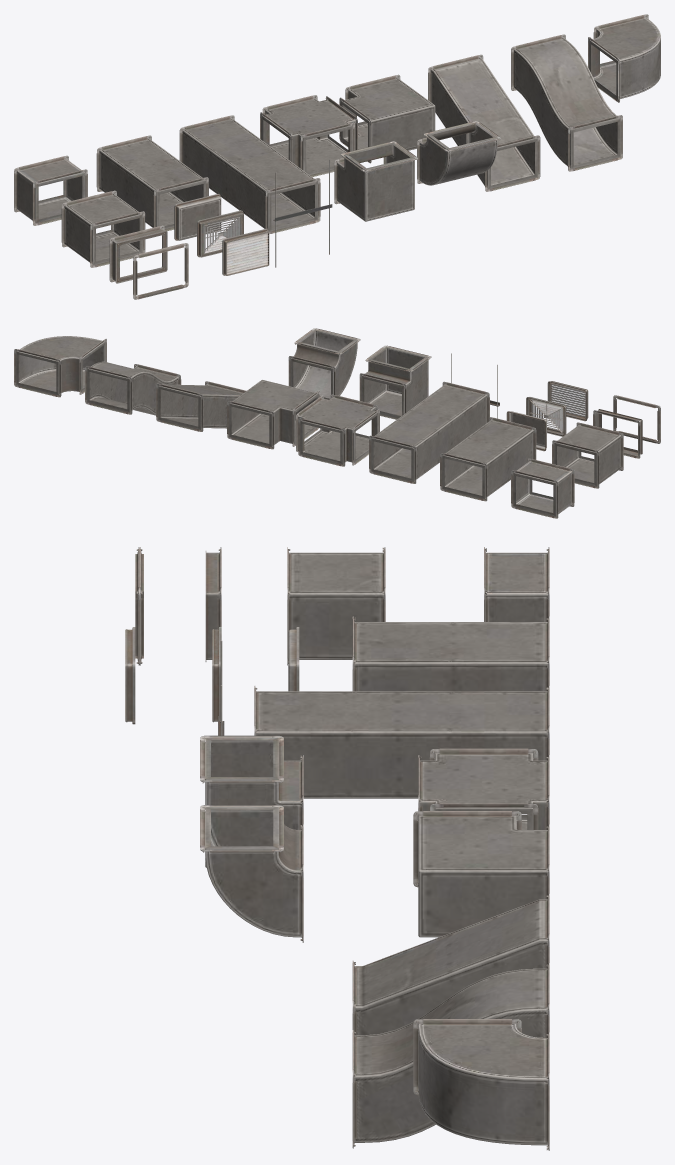
3 renders of one model, top to bottom at view 1: azimuth 30°, elevation 25°; view 2: azimuth 150°, elevation 25°; view 3: azimuth 270°, elevation 25°, orthographic. The views are drawn at different scales.
Visible parts, largest first — view 1: modular_airduct_rectangular_01_tripple_01, modular_airduct_rectangular_01_transition_double_02, modular_airduct_rectangular_01_transition_double_01, modular_airduct_rectangular_01_double_01, modular_airduct_rectangular_01_splitter_01, modular_airduct_rectangular_01_corner_01, modular_airduct_rectangular_01_corner_02, modular_airduct_rectangular_01_bend_02, modular_airduct_rectangular_01_single_01, modular_airduct_rectangular_01_bend_01, modular_airduct_rectangular_01_half_01, modular_airduct_rectangular_01_vent_01 (+4 smaller); view 2: modular_airduct_rectangular_01_tripple_01, modular_airduct_rectangular_01_double_01, modular_airduct_rectangular_01_splitter_01, modular_airduct_rectangular_01_corner_02, modular_airduct_rectangular_01_bend_02, modular_airduct_rectangular_01_corner_01, modular_airduct_rectangular_01_bend_01, modular_airduct_rectangular_01_transition_double_02, modular_airduct_rectangular_01_single_01, modular_airduct_rectangular_01_transition_double_01, modular_airduct_rectangular_01_half_01, modular_airduct_rectangular_01_vent_01 (+4 smaller); view 3: modular_airduct_rectangular_01_tripple_01, modular_airduct_rectangular_01_bend_02, modular_airduct_rectangular_01_corner_02, modular_airduct_rectangular_01_double_01, modular_airduct_rectangular_01_transition_double_01, modular_airduct_rectangular_01_transition_double_02, modular_airduct_rectangular_01_bend_01, modular_airduct_rectangular_01_single_01, modular_airduct_rectangular_01_splitter_01, modular_airduct_rectangular_01_corner_01, modular_airduct_rectangular_01_half_01, modular_airduct_rectangular_01_connector_01 (+3 smaller).
Part boxes in pixels (left/top/right/bottom): modular_airduct_rectangular_01_tripple_01: left=179, top=115, right=320, bottom=233; modular_airduct_rectangular_01_transition_double_02: left=511, top=34, right=622, bottom=171; modular_airduct_rectangular_01_transition_double_01: left=428, top=54, right=540, bottom=191; modular_airduct_rectangular_01_double_01: left=96, top=135, right=208, bottom=231; modular_airduct_rectangular_01_splitter_01: left=260, top=95, right=357, bottom=176; modular_airduct_rectangular_01_corner_01: left=334, top=141, right=417, bottom=221; modular_airduct_rectangular_01_corner_02: left=339, top=74, right=435, bottom=163; modular_airduct_rectangular_01_bend_02: left=588, top=14, right=660, bottom=102; modular_airduct_rectangular_01_single_01: left=61, top=190, right=145, bottom=267; modular_airduct_rectangular_01_bend_01: left=417, top=121, right=500, bottom=185; modular_airduct_rectangular_01_half_01: left=14, top=155, right=87, bottom=225; modular_airduct_rectangular_01_vent_01: left=222, top=229, right=269, bottom=275; modular_airduct_rectangular_01_tripple_01: left=369, top=381, right=489, bottom=483; modular_airduct_rectangular_01_double_01: left=440, top=417, right=536, bottom=501; modular_airduct_rectangular_01_splitter_01: left=296, top=394, right=379, bottom=466; modular_airduct_rectangular_01_corner_02: left=227, top=380, right=319, bottom=449; modular_airduct_rectangular_01_bend_02: left=14, top=336, right=106, bottom=397; modular_airduct_rectangular_01_corner_01: left=359, top=345, right=431, bottom=419; modular_airduct_rectangular_01_bend_01: left=288, top=328, right=360, bottom=399; modular_airduct_rectangular_01_transition_double_02: left=85, top=361, right=181, bottom=415; modular_airduct_rectangular_01_single_01: left=552, top=422, right=623, bottom=488; modular_airduct_rectangular_01_transition_double_01: left=156, top=381, right=246, bottom=431; modular_airduct_rectangular_01_half_01: left=511, top=458, right=574, bottom=518; modular_airduct_rectangular_01_vent_01: left=547, top=381, right=588, bottom=421; modular_airduct_rectangular_01_tripple_01: left=254, top=686, right=549, bottom=798; modular_airduct_rectangular_01_bend_02: left=413, top=1019, right=549, bottom=1150; modular_airduct_rectangular_01_corner_02: left=413, top=811, right=549, bottom=937; modular_airduct_rectangular_01_double_01: left=352, top=616, right=549, bottom=691; modular_airduct_rectangular_01_transition_double_01: left=352, top=894, right=549, bottom=1035; modular_airduct_rectangular_01_transition_double_02: left=352, top=963, right=549, bottom=1148; modular_airduct_rectangular_01_bend_01: left=200, top=805, right=303, bottom=942; modular_airduct_rectangular_01_single_01: left=287, top=547, right=385, bottom=665; modular_airduct_rectangular_01_splitter_01: left=418, top=748, right=549, bottom=829; modular_airduct_rectangular_01_corner_01: left=200, top=735, right=303, bottom=867; modular_airduct_rectangular_01_half_01: left=484, top=547, right=549, bottom=621; modular_airduct_rectangular_01_connector_01: left=205, top=547, right=221, bottom=661.
Size of the model in its own units: 7.66 by 1.26 by 2.59.
Materials: 2 (2 with a texture image).
